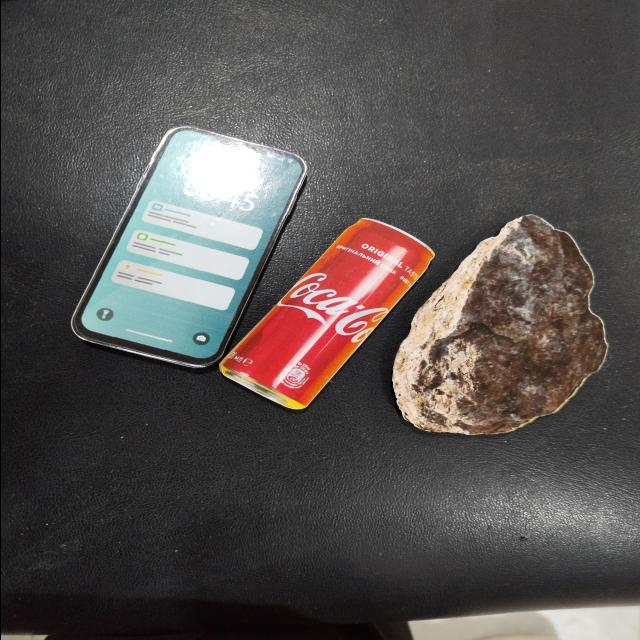Other Objects: (68, 126, 308, 369), (389, 214, 608, 436), (217, 217, 435, 411)
